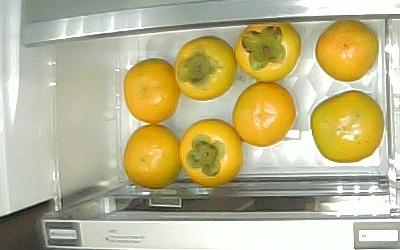persimmon: (310, 90, 384, 163), (180, 119, 242, 187), (232, 81, 295, 147), (314, 19, 379, 82), (174, 36, 236, 101), (234, 22, 300, 82), (124, 57, 179, 124), (124, 124, 180, 189)
